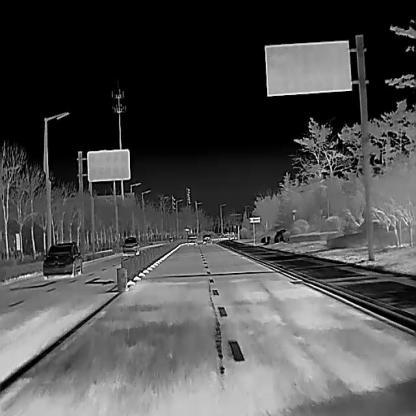car: (42, 241, 82, 279), (122, 237, 139, 255), (201, 234, 212, 245), (187, 234, 197, 245)
